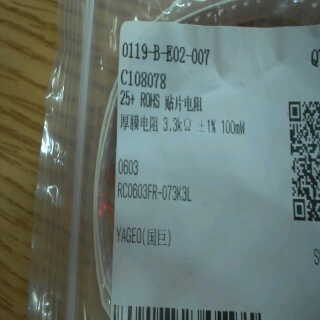3.3kO: (161, 113, 195, 137)
